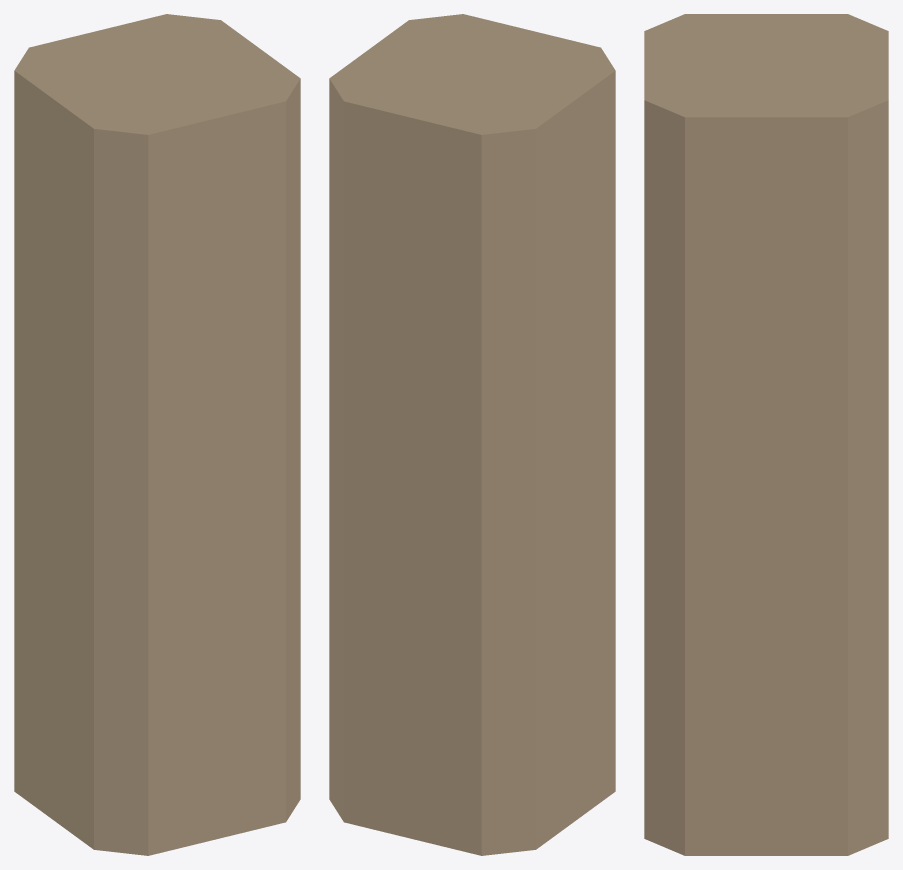
The model's file is dungeon_pillar.glb.
3 renders of one model, left to right at view 1: azimuth 30°, elevation 25°; view 2: azimuth 150°, elevation 25°; view 3: azimuth 270°, elevation 25°, orthographic. The views are drawn at different scales.
Visible parts, largest first — view 1: Cube; view 2: Cube; view 3: Cube.
Boxes of the visible parts, bbox=[...] form: Cube: bbox=[14, 14, 300, 855]; Cube: bbox=[329, 14, 615, 855]; Cube: bbox=[644, 14, 888, 855].
Size of the model in its own units: 1.5 by 5 by 1.5.
1 material, 1 textured.
